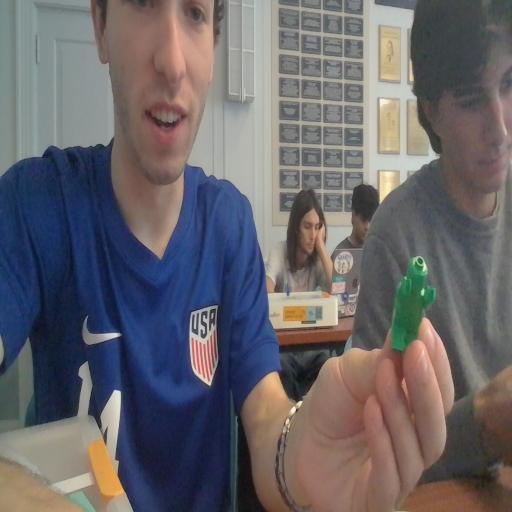green LEGO minifig: (391, 242, 436, 363)
